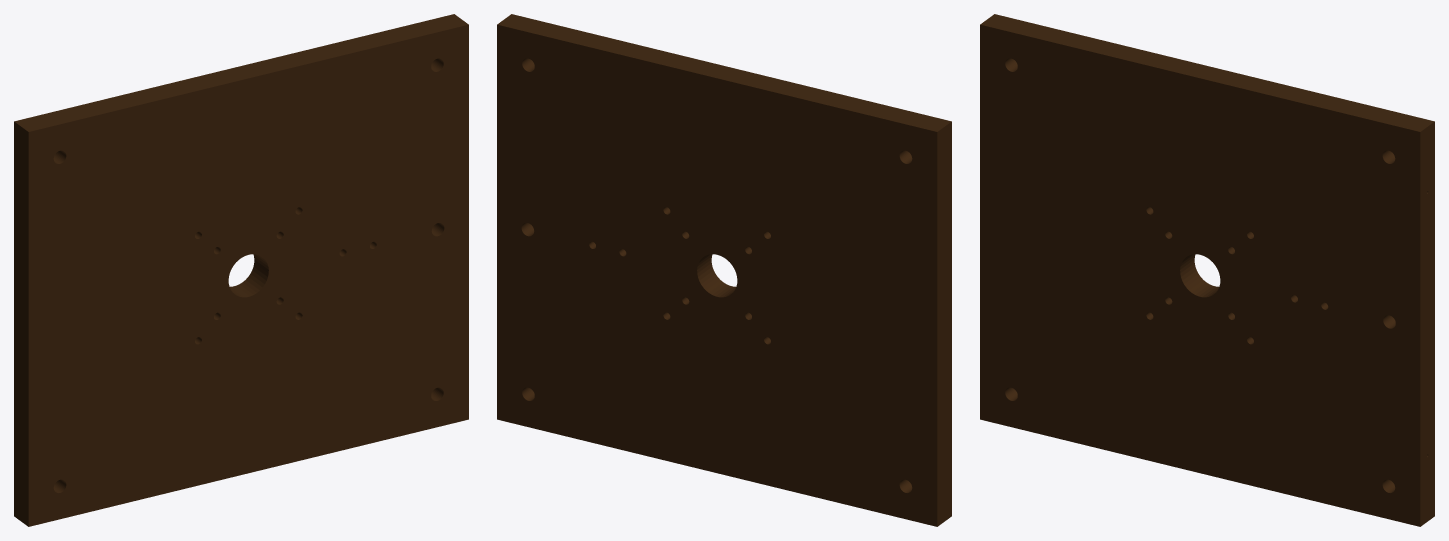
File: plateau.glb
3 views of the same model, side by side, from view 1: azimuth 30°, elevation 25°; view 2: azimuth 150°, elevation 25°; view 3: azimuth 330°, elevation 25° (orthographic).
Visible parts, largest first — view 1: Assem1 - plateau-1; view 2: Assem1 - plateau-1; view 3: Assem1 - plateau-1.
Part boxes in pixels (left/top/right/bottom): Assem1 - plateau-1: left=14, top=14, right=468, bottom=526; Assem1 - plateau-1: left=497, top=14, right=951, bottom=526; Assem1 - plateau-1: left=980, top=14, right=1434, bottom=526.
Size of the model in its own units: 350 by 300 by 20.
